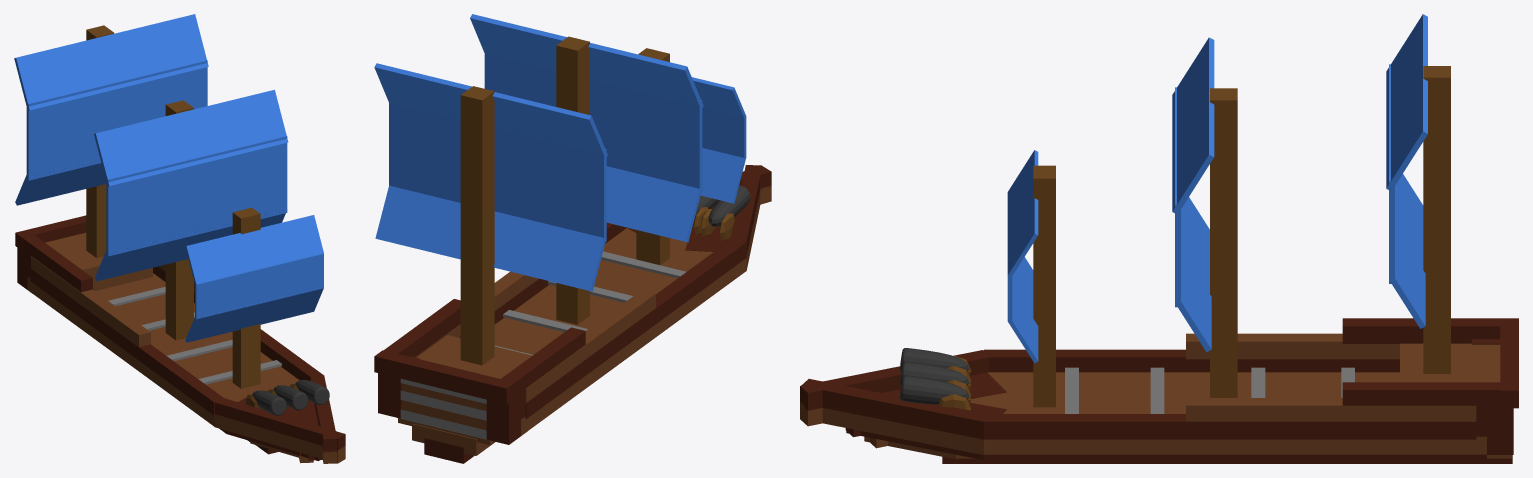
The model's file is Level3Boat.fbx.
3 views of the same model, side by side, from view 1: azimuth 30°, elevation 25°; view 2: azimuth 150°, elevation 25°; view 3: azimuth 270°, elevation 25° (orthographic). The views are drawn at different scales.
Parts seen in each view (by area): view 1: Cube.003, Cube.006, Cube.038, Cube.039, Cube.005, Cube.025, Cube.026, Cube.018, Cube.024, Cube.007, Cube.002, Cube.027 (+19 smaller); view 2: Cube.039, Cube.003, Cube.037, Cube.005, Cube.040, Cube.038, Cube.006, Cube.007, Cube.018, Cube.019, Cube.002, Cube.022 (+21 smaller); view 3: Cube.005, Cube.015, Cube.002, Cube.040, Cube.018, Cube.051, Cube.027, Cube.006, Cube.038, Cube.017, Cube.023, Cube.053 (+18 smaller).
Part boxes in pixels (<box>): Cube.003: <box>106,136,287,256</box>; Cube.006: <box>94,89,288,186</box>; Cube.038: <box>14,14,208,110</box>; Cube.039: <box>26,60,207,180</box>; Cube.005: <box>27,273,299,426</box>; Cube.025: <box>185,215,323,285</box>; Cube.026: <box>195,253,323,319</box>; Cube.018: <box>30,268,223,415</box>; Cube.024: <box>185,287,323,342</box>; Cube.007: <box>95,209,287,281</box>; Cube.002: <box>165,100,193,340</box>; Cube.027: <box>232,207,260,388</box>; Cube.039: <box>389,103,606,241</box>; Cube.003: <box>484,54,702,192</box>; Cube.037: <box>375,185,606,291</box>; Cube.005: <box>494,228,746,435</box>; Cube.040: <box>460,86,494,365</box>; Cube.038: <box>374,63,607,157</box>; Cube.006: <box>470,14,703,107</box>; Cube.007: <box>606,166,701,242</box>; Cube.018: <box>525,240,746,418</box>; Cube.019: <box>398,335,531,445</box>; Cube.002: <box>556,36,589,324</box>; Cube.022: <box>374,350,514,404</box>; Cube.005: <box>982,372,1486,454</box>; Cube.015: <box>984,414,1476,439</box>; Cube.002: <box>1210,88,1237,397</box>; Cube.040: <box>1423,66,1450,373</box>; Cube.018: <box>984,349,1399,372</box>; Cube.051: <box>1186,398,1476,421</box>; Cube.027: <box>1033,165,1055,407</box>; Cube.006: <box>1172,37,1214,214</box>; Cube.038: <box>1386,14,1427,191</box>; Cube.017: <box>801,379,990,439</box>; Cube.023: <box>1186,333,1399,359</box>; Cube.053: <box>1342,382,1500,407</box>.
Size of the model in its own units: 2001 by 3036 by 5184.
